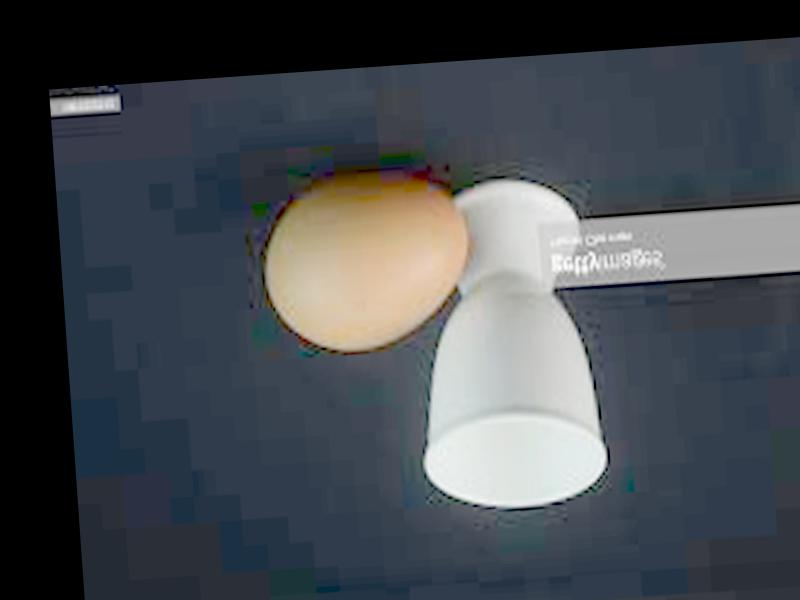Eggs: (263, 178, 476, 356)
